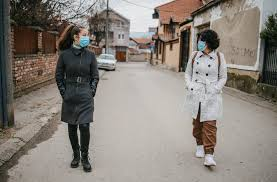with_mask: (73, 31, 90, 48), (196, 37, 209, 52)
